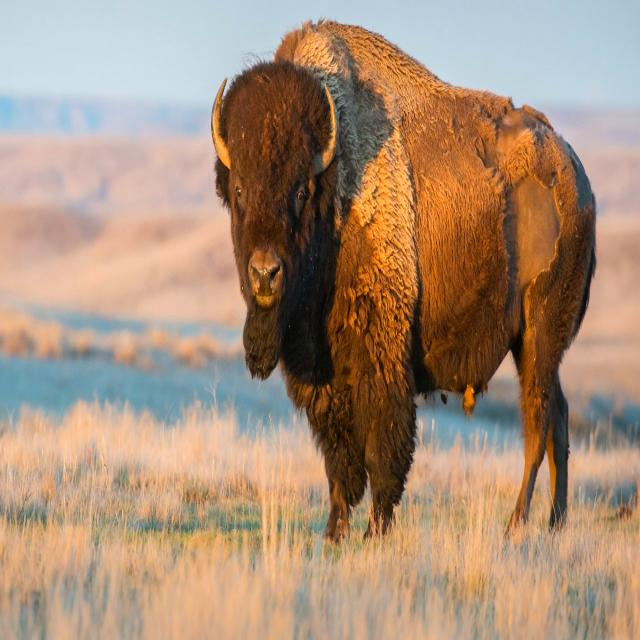bison: (212, 20, 596, 540)
